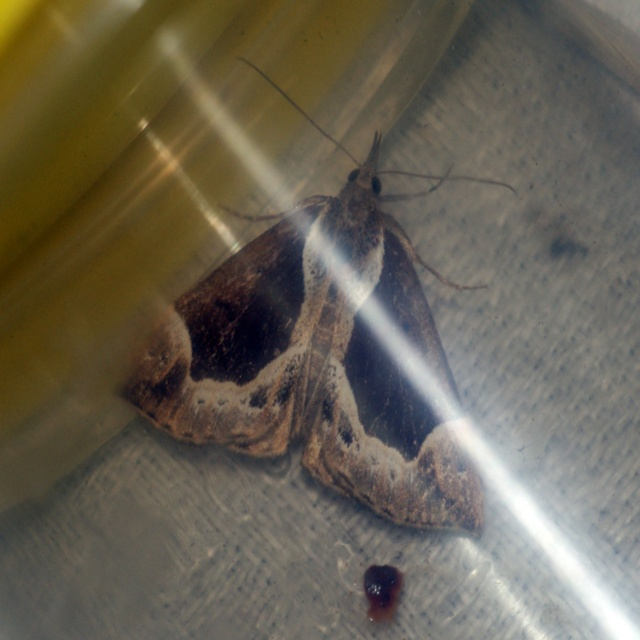Moths and butterflies: (112, 57, 518, 544)
